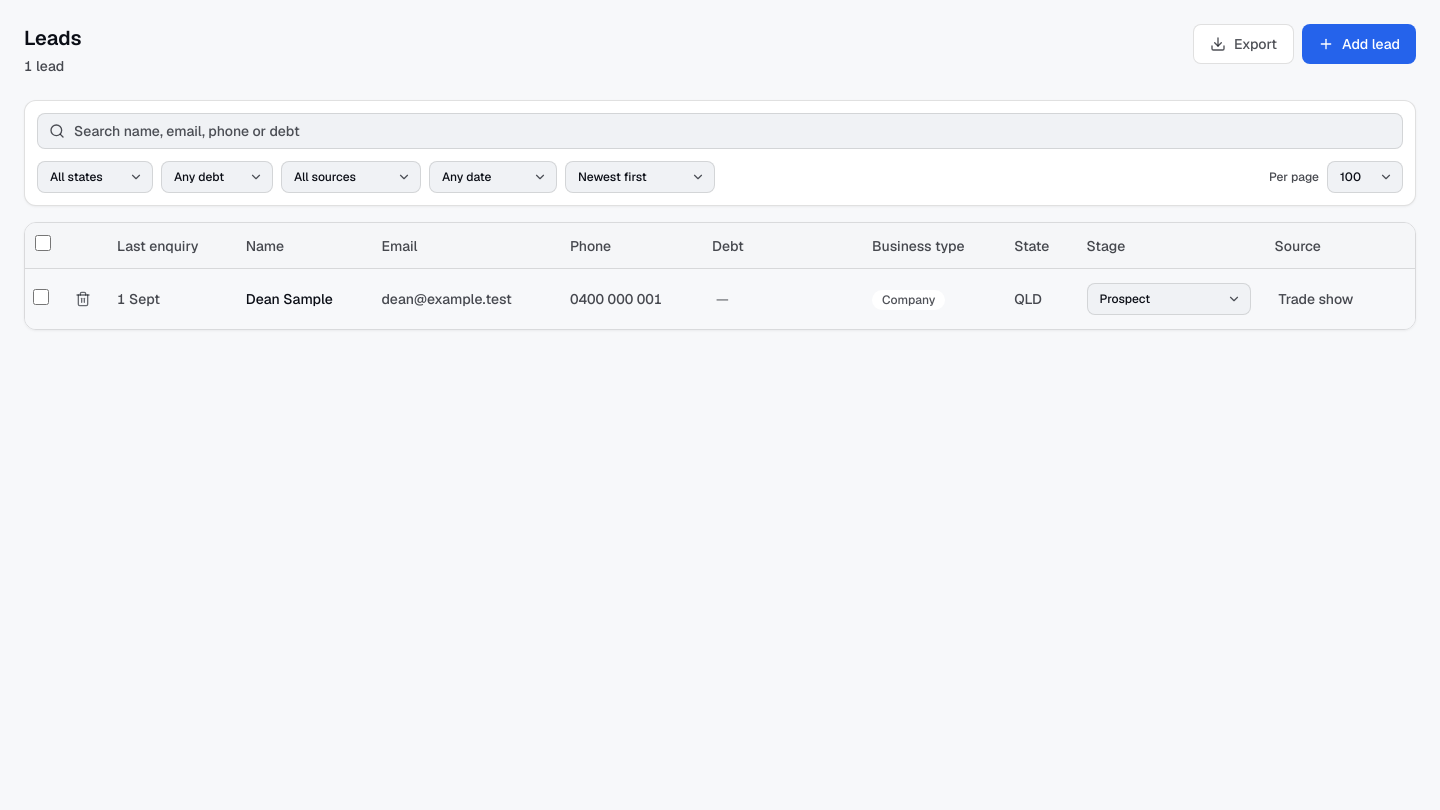
Test: SourceInput › goes back to the delivered source when cleared
Click the button with aria-label "Edit source for Dean Sample": coordinates (1325, 299) [1274,287,1375,311]
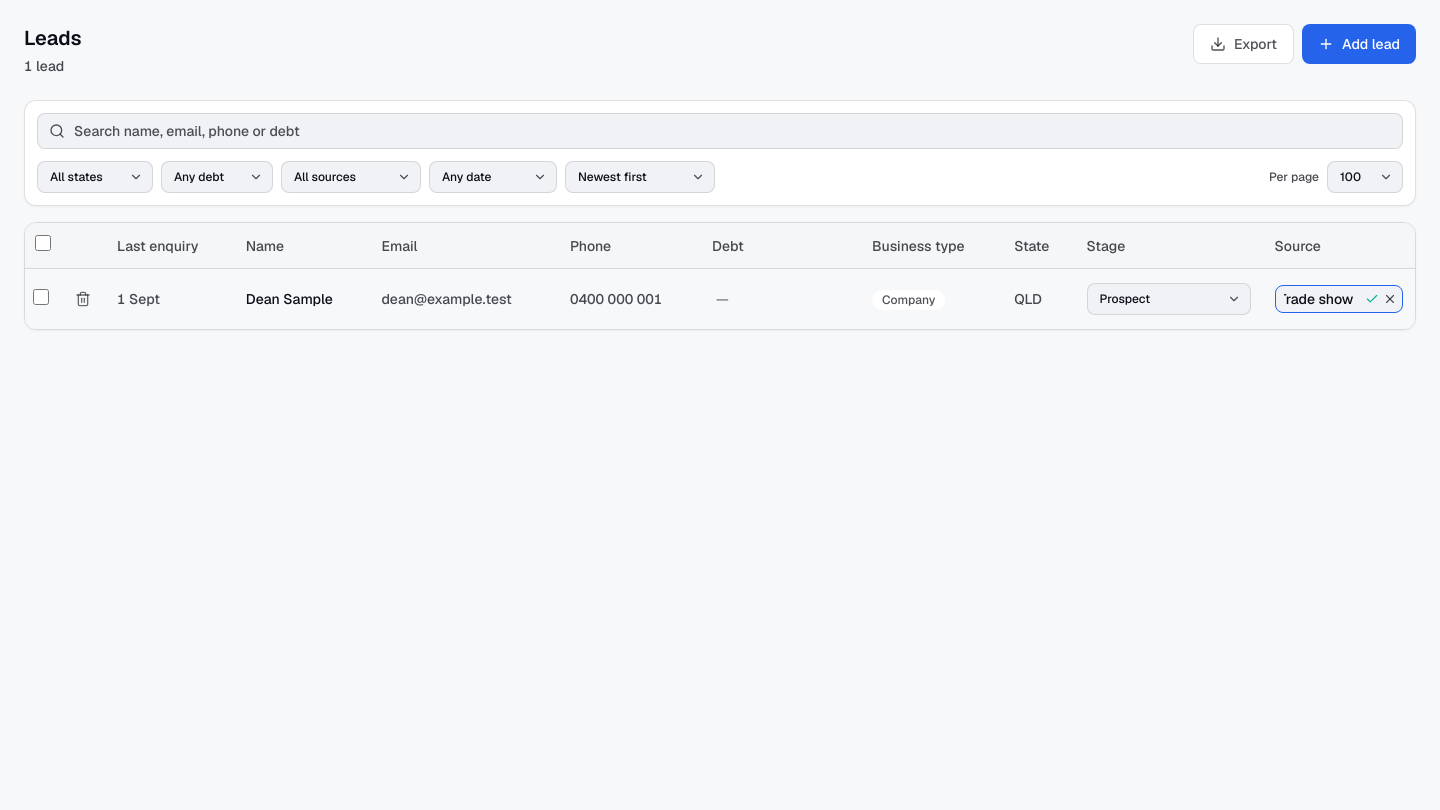
Now the field named "Source for Dean Sample" holds "Trade show"
Clear the field named "Source for Dean Sample": coordinates (1339, 299) [1274,285,1403,313]
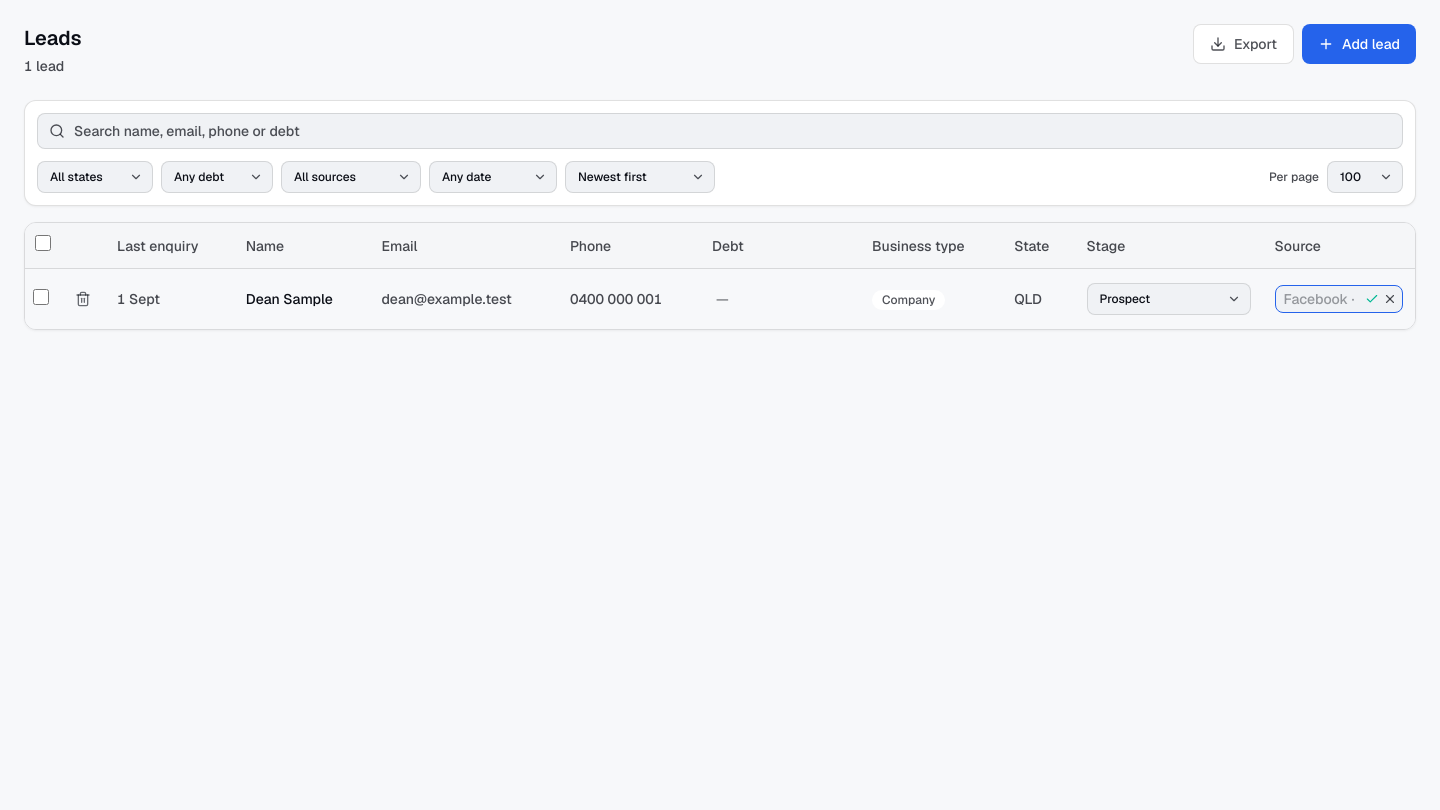
Click the button named "Save source for Dean Sample": coordinates (1372, 299) [1363,290,1381,308]
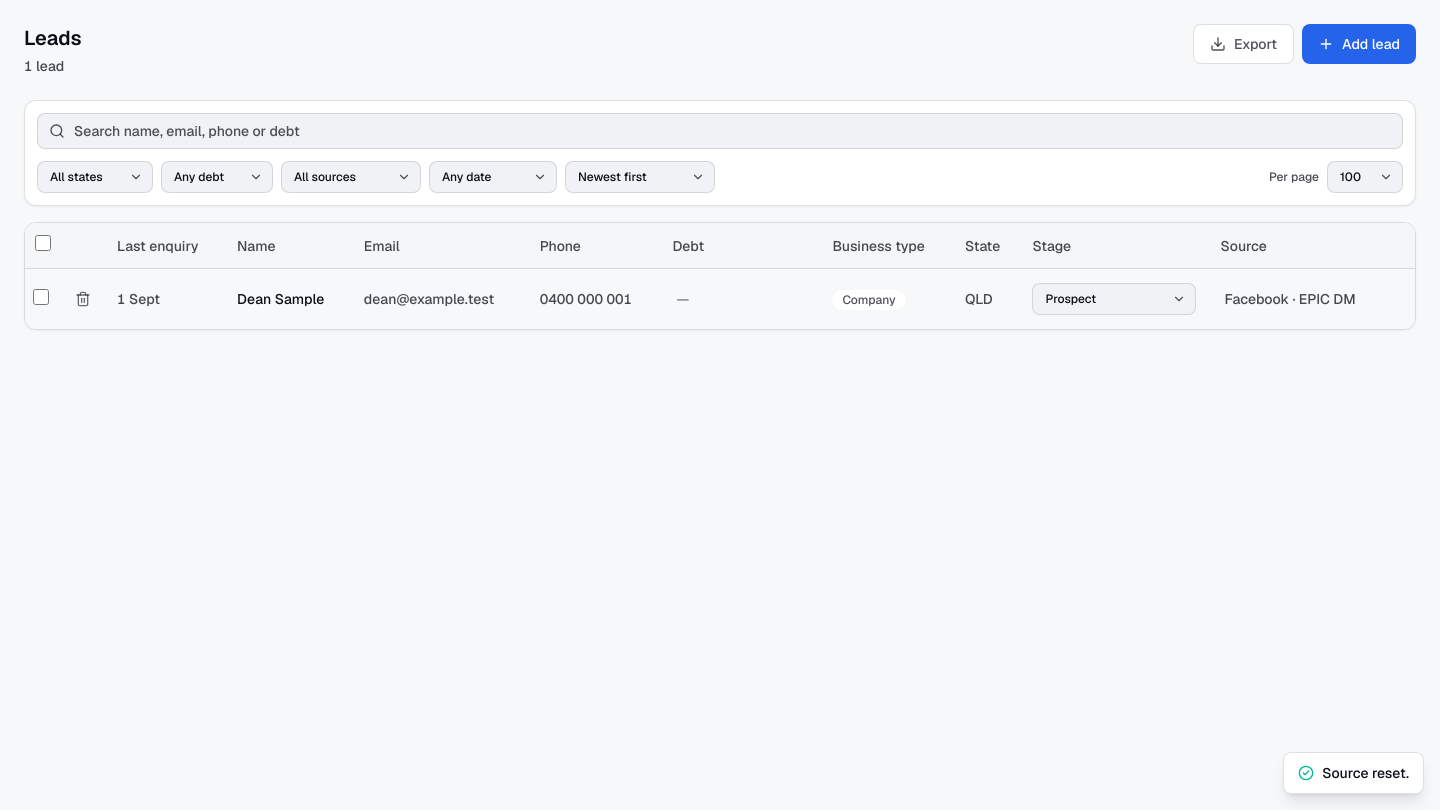
Now the button with aria-label "Edit source for Dean Sample" reads "Facebook · EPIC DM", box [1220,287,1378,311]
